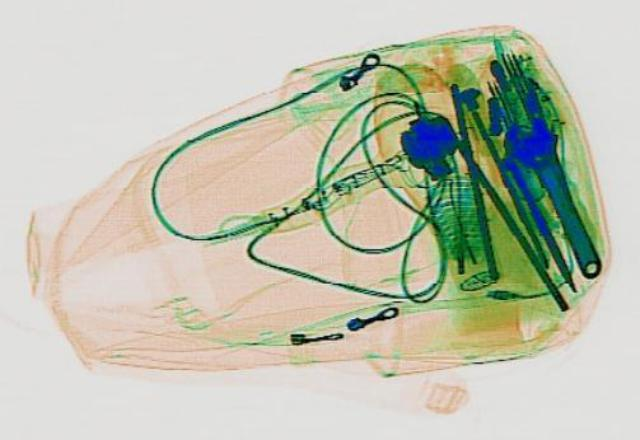Wrench: (497, 115, 618, 279)
